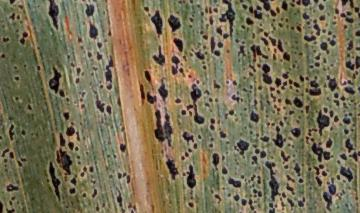tarspot: (154, 106, 174, 148), (264, 161, 281, 200), (189, 84, 205, 125), (55, 148, 73, 176), (222, 1, 236, 35), (47, 1, 62, 32), (49, 162, 60, 202), (316, 109, 331, 136), (150, 8, 163, 38), (104, 53, 116, 84), (152, 43, 166, 66), (92, 90, 105, 114), (49, 67, 60, 95), (166, 14, 182, 33), (165, 158, 179, 178), (235, 138, 250, 156), (158, 78, 169, 102), (273, 126, 284, 149), (311, 142, 323, 162), (340, 165, 354, 182), (83, 3, 98, 18), (172, 37, 185, 53), (323, 192, 333, 212), (88, 21, 99, 39), (7, 122, 17, 141), (146, 91, 159, 105), (256, 45, 269, 59), (327, 177, 337, 195), (138, 82, 146, 103), (115, 187, 123, 208), (345, 138, 356, 153), (227, 177, 242, 188), (182, 131, 195, 143), (327, 78, 338, 92), (212, 153, 220, 172), (58, 132, 67, 148), (344, 59, 356, 71), (293, 96, 304, 109), (250, 43, 257, 63), (308, 87, 322, 97), (261, 73, 273, 84), (250, 110, 260, 123), (280, 150, 290, 163), (187, 176, 197, 189), (261, 1, 272, 12), (276, 38, 284, 53), (344, 86, 356, 96), (144, 70, 153, 83), (237, 45, 246, 58), (303, 35, 317, 43), (244, 16, 255, 26), (170, 64, 179, 76), (290, 128, 302, 137), (286, 183, 295, 195), (313, 23, 321, 36), (6, 184, 19, 192), (210, 36, 216, 53), (65, 126, 75, 136), (170, 55, 180, 65), (212, 78, 221, 89), (282, 51, 291, 62), (294, 163, 301, 177), (187, 164, 195, 176), (269, 35, 277, 47), (105, 82, 114, 92), (262, 63, 271, 73), (178, 67, 186, 78), (309, 80, 320, 88), (341, 117, 352, 125), (25, 103, 34, 112), (1, 148, 10, 157), (95, 41, 104, 50), (119, 143, 128, 152), (218, 13, 227, 22), (349, 153, 358, 162), (63, 111, 71, 121), (195, 51, 205, 59), (320, 41, 328, 51), (323, 151, 331, 161), (214, 194, 222, 204), (75, 130, 81, 143), (96, 51, 103, 62), (259, 135, 270, 142), (347, 40, 354, 51), (270, 92, 277, 103), (232, 94, 240, 103), (260, 37, 269, 45), (274, 78, 282, 87), (302, 12, 310, 21), (286, 174, 295, 182), (249, 199, 255, 211), (106, 104, 113, 114), (216, 26, 223, 36), (355, 55, 360, 69), (326, 138, 333, 148), (313, 166, 320, 176), (288, 198, 295, 208), (316, 176, 322, 187), (58, 89, 66, 97), (255, 4, 263, 12), (339, 152, 347, 160), (318, 3, 325, 12), (345, 16, 354, 23), (251, 156, 258, 165), (282, 1, 288, 11), (301, 1, 311, 7), (71, 176, 77, 186), (6, 207, 16, 213), (19, 128, 27, 135), (16, 160, 24, 167), (79, 102, 87, 109), (68, 142, 75, 150), (222, 32, 230, 39), (241, 3, 249, 10), (220, 131, 227, 139), (249, 64, 256, 72), (269, 10, 277, 17), (319, 14, 326, 22), (293, 81, 301, 88), (285, 99, 293, 106), (333, 115, 340, 123), (259, 151, 267, 158), (241, 198, 248, 206), (14, 75, 20, 84), (9, 151, 15, 160), (174, 98, 183, 104), (222, 166, 228, 175), (305, 104, 310, 114), (92, 188, 97, 198), (19, 38, 26, 45), (22, 31, 29, 38), (69, 61, 76, 68), (106, 29, 113, 36), (79, 90, 86, 97), (180, 109, 187, 116), (214, 49, 221, 56), (217, 41, 224, 48), (330, 40, 337, 47), (333, 100, 340, 107), (342, 102, 349, 109), (281, 192, 288, 199), (10, 13, 16, 21), (2, 37, 10, 43), (20, 156, 28, 162), (87, 50, 93, 58), (213, 6, 219, 14), (283, 71, 289, 79), (349, 1, 355, 9), (334, 7, 340, 15), (299, 74, 305, 82), (4, 164, 9, 173), (340, 1, 349, 6), (257, 175, 262, 184), (19, 4, 26, 10), (76, 36, 83, 42), (79, 44, 86, 50), (143, 6, 150, 12), (204, 89, 211, 95), (209, 124, 215, 131), (240, 24, 247, 30), (233, 116, 239, 123), (257, 27, 264, 33), (289, 2, 296, 8), (296, 26, 302, 33), (340, 12, 347, 18), (315, 53, 321, 60), (314, 61, 321, 67), (322, 57, 328, 64), (278, 120, 284, 127), (298, 200, 304, 207), (188, 201, 194, 208), (234, 194, 240, 201), (69, 188, 76, 194), (250, 174, 256, 181), (13, 96, 21, 101), (89, 165, 94, 173), (186, 104, 194, 109), (209, 15, 213, 25), (293, 10, 301, 15), (329, 110, 334, 118), (258, 190, 263, 198), (1, 200, 4, 213), (92, 65, 98, 71), (209, 5, 213, 14), (232, 80, 238, 86), (333, 93, 339, 99), (342, 80, 348, 86), (252, 143, 258, 149), (322, 171, 328, 177), (268, 202, 274, 208), (65, 97, 72, 102), (75, 77, 80, 84), (188, 110, 193, 117), (242, 87, 249, 92), (251, 32, 256, 39), (253, 99, 258, 106), (276, 7, 281, 14), (311, 18, 318, 23), (355, 30, 360, 37), (323, 65, 328, 72), (336, 174, 341, 181), (77, 67, 81, 75), (205, 5, 209, 13), (193, 142, 197, 150), (249, 6, 253, 14), (277, 107, 281, 115), (306, 136, 310, 144), (16, 14, 21, 20), (15, 28, 20, 34), (36, 65, 41, 71), (3, 158, 9, 163), (66, 54, 71, 60), (79, 97, 85, 102), (74, 145, 79, 151), (195, 79, 201, 84), (196, 3, 201, 9), (200, 10, 205, 16), (203, 34, 208, 40), (214, 97, 219, 103), (229, 110, 235, 115), (197, 134, 202, 140), (248, 71, 254, 76), (270, 86, 276, 91), (263, 31, 269, 36), (346, 11, 352, 16), (308, 64, 314, 69), (289, 79, 294, 85), (288, 110, 294, 115), (340, 95, 345, 101), (323, 107, 328, 113), (347, 80, 353, 85), (344, 129, 349, 135), (318, 164, 324, 169), (298, 178, 304, 183), (118, 173, 123, 179), (127, 174, 130, 184), (95, 206, 100, 212), (9, 1, 16, 5), (14, 65, 18, 72), (221, 155, 225, 162), (352, 73, 356, 80), (269, 209, 276, 213), (1, 53, 6, 58), (22, 63, 27, 68), (184, 152, 189, 157), (180, 155, 185, 160), (189, 17, 194, 22), (189, 52, 194, 57), (208, 97, 213, 102), (205, 102, 210, 107), (210, 118, 215, 123), (235, 38, 240, 43), (249, 130, 254, 135), (279, 23, 284, 28), (355, 8, 360, 13), (327, 30, 332, 35), (355, 46, 360, 51), (305, 76, 310, 81), (282, 81, 287, 86), (281, 86, 286, 91), (266, 100, 271, 105), (273, 104, 278, 109), (183, 55, 187, 61), (203, 65, 207, 71), (205, 23, 209, 29), (225, 113, 229, 119), (248, 85, 254, 89), (272, 54, 276, 60), (285, 17, 289, 23), (312, 1, 320, 4), (305, 87, 309, 93), (255, 150, 261, 154), (83, 166, 87, 172), (123, 172, 127, 178), (128, 203, 132, 209), (90, 180, 96, 184), (99, 84, 103, 89), (188, 148, 192, 153), (203, 45, 207, 50), (226, 49, 231, 53), (241, 40, 246, 44), (209, 143, 213, 148), (182, 172, 186, 177), (258, 86, 263, 90), (243, 75, 247, 80), (197, 42, 201, 47), (190, 48, 195, 52), (280, 17, 285, 21), (273, 48, 277, 53), (296, 1, 301, 5), (299, 51, 303, 56), (322, 29, 326, 34), (344, 24, 348, 29), (332, 21, 337, 25), (333, 15, 337, 20), (290, 85, 294, 90), (276, 90, 281, 94), (278, 98, 282, 103), (325, 75, 330, 79), (294, 40, 299, 44), (271, 122, 276, 126), (283, 116, 287, 121), (326, 97, 331, 101), (344, 113, 349, 117), (313, 128, 318, 132), (350, 128, 354, 133), (284, 164, 288, 169), (341, 189, 345, 194), (338, 195, 342, 200), (354, 195, 358, 200), (81, 172, 85, 177), (83, 193, 87, 198), (133, 205, 137, 210), (327, 12, 331, 17), (121, 127, 125, 132), (213, 1, 219, 4), (256, 64, 262, 67), (267, 121, 270, 127), (188, 74, 192, 78), (37, 46, 41, 50), (188, 24, 192, 28), (200, 30, 204, 34), (240, 98, 244, 102), (210, 137, 214, 141), (226, 140, 230, 144), (243, 107, 247, 111), (220, 60, 224, 64), (273, 27, 277, 31), (291, 26, 295, 30), (332, 34, 336, 38), (327, 37, 331, 41), (330, 63, 334, 67), (294, 51, 298, 55), (286, 25, 290, 29), (349, 112, 353, 116), (311, 138, 315, 142), (241, 175, 245, 179), (327, 181, 331, 185), (227, 193, 231, 197), (253, 189, 257, 193), (345, 203, 349, 207), (122, 209, 126, 213), (107, 154, 111, 158), (244, 126, 248, 130), (189, 1, 194, 4), (256, 132, 259, 137), (271, 23, 274, 28), (293, 64, 296, 69), (282, 106, 287, 109), (330, 127, 333, 132), (308, 168, 313, 171), (302, 197, 305, 202), (211, 189, 214, 194), (293, 153, 296, 158), (101, 204, 106, 207), (180, 63, 184, 66), (178, 1, 182, 4), (202, 61, 206, 64), (226, 80, 229, 84), (236, 91, 240, 94), (239, 1, 245, 3), (218, 120, 221, 124), (218, 127, 222, 130), (307, 21, 310, 25), (347, 53, 350, 57), (355, 71, 358, 75), (315, 76, 318, 80), (296, 89, 299, 93), (324, 23, 328, 26), (300, 110, 304, 113), (297, 120, 300, 124), (308, 133, 312, 136), (351, 100, 355, 103), (358, 151, 360, 157), (12, 196, 15, 200), (10, 201, 13, 205), (78, 162, 82, 165), (77, 156, 81, 159), (131, 210, 135, 213), (237, 162, 240, 166), (109, 175, 113, 178), (1, 136, 4, 139), (183, 1, 186, 4), (273, 19, 276, 22), (299, 116, 302, 119), (288, 144, 291, 147), (292, 145, 295, 148), (309, 129, 312, 132), (295, 60, 298, 63), (357, 113, 360, 116), (114, 155, 117, 158), (310, 187, 313, 190), (260, 23, 262, 27), (292, 1, 295, 3), (321, 1, 327, 2), (239, 59, 241, 62)
